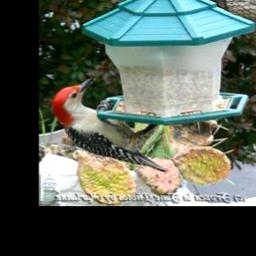Woodpecker: (52, 76, 169, 171)
